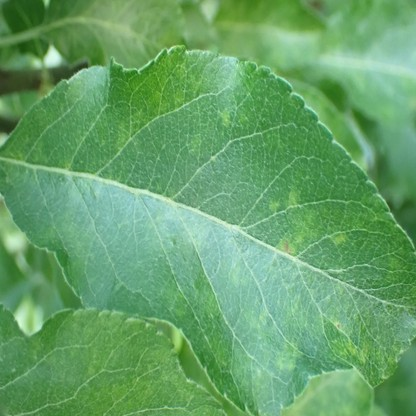scab: (331, 315, 366, 364), (278, 345, 304, 372), (276, 239, 295, 256), (116, 119, 127, 148), (231, 264, 246, 285), (189, 133, 200, 154), (289, 189, 301, 208), (269, 200, 281, 213), (221, 110, 230, 127), (332, 234, 345, 244)
